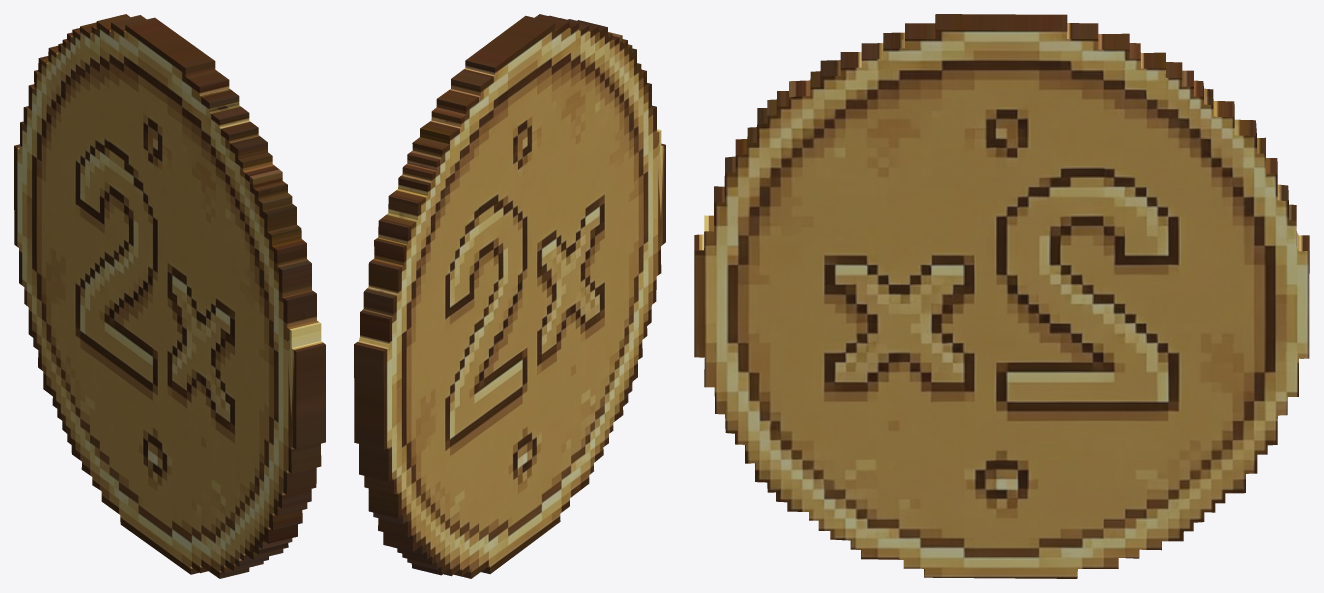
File: doubler.glb
3 views of the same model, side by side, from view 1: azimuth 30°, elevation 25°; view 2: azimuth 150°, elevation 25°; view 3: azimuth 270°, elevation 25° (orthographic). The views are drawn at different scales.
Parts seen in each view (by area): view 1: coin_2x; view 2: coin_2x; view 3: coin_2x.
Part boxes in pixels (bbox=[...]): coin_2x: bbox=[14, 14, 325, 578]; coin_2x: bbox=[354, 14, 665, 578]; coin_2x: bbox=[694, 14, 1309, 578].
Size of the model in its own units: 0.0541 by 0.878 by 0.8912.
1 material, 1 textured.
